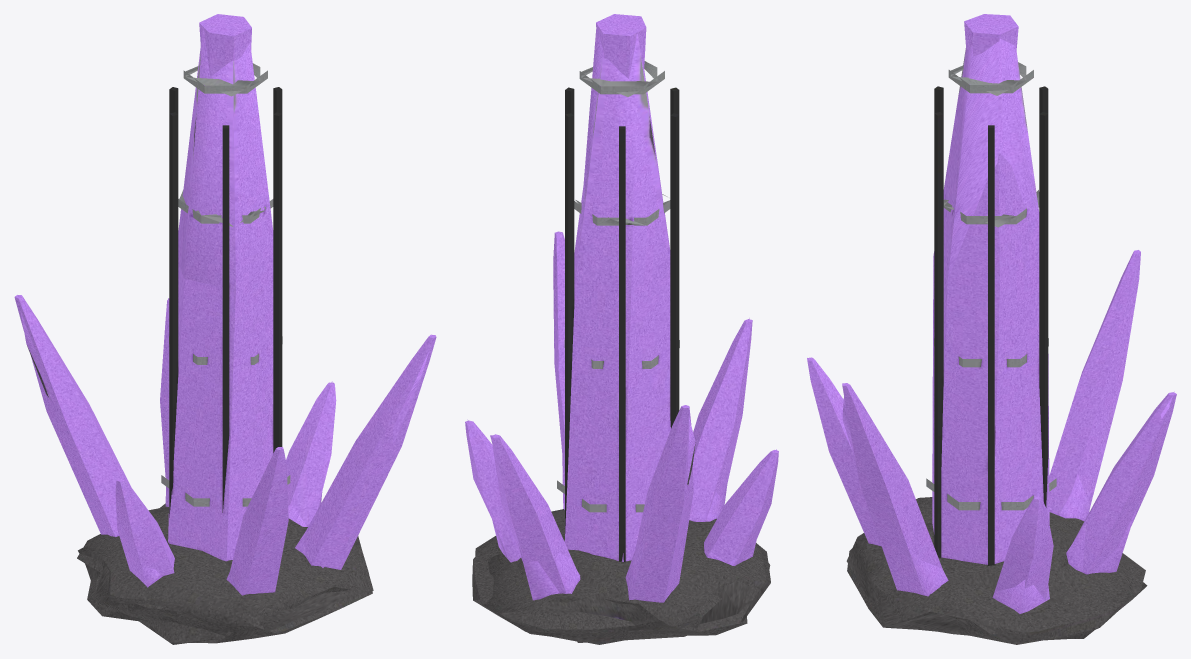
The model's file is sd_prop_monolith_violet.glb.
The picture shows the model from 3 angles, left to right: view 1: azimuth 30°, elevation 25°; view 2: azimuth 150°, elevation 25°; view 3: azimuth 270°, elevation 25°; orthographic projection.
Parts seen in each view (by area): view 1: LOD0_body, LOD1_body; view 2: LOD0_body, LOD1_body; view 3: LOD0_body, LOD1_body.
Part boxes in pixels (bbox=[...]): LOD0_body: bbox=[14, 14, 436, 643]; LOD1_body: bbox=[18, 28, 433, 644]; LOD0_body: bbox=[465, 14, 778, 644]; LOD1_body: bbox=[467, 27, 776, 642]; LOD0_body: bbox=[807, 14, 1176, 644]; LOD1_body: bbox=[808, 38, 1174, 638].
Bounding box in the file's own units: 0.4976 × 1 × 0.5701.
Materials: 1 (1 with a texture image).
